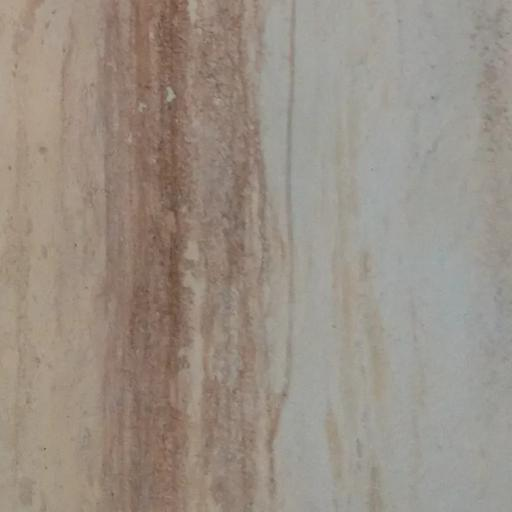stain: (39, 0, 319, 505), (319, 118, 450, 512)
